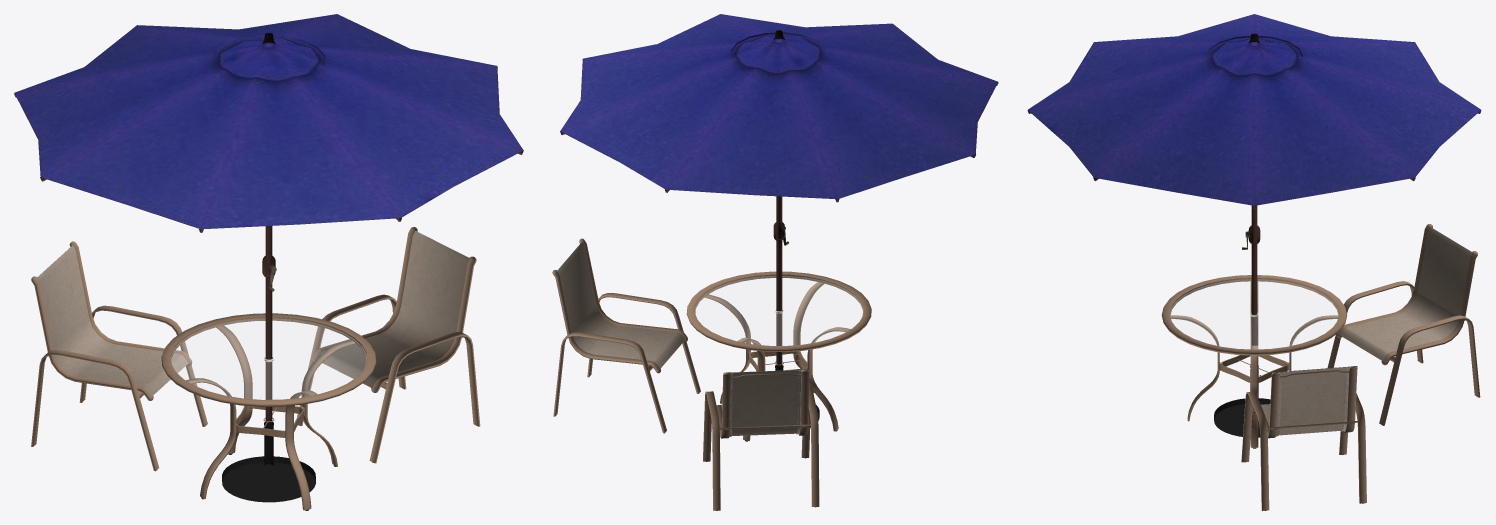
Rendered from patio_set_optimised.glb.
The picture shows the model from 3 angles, left to right: view 1: azimuth 30°, elevation 25°; view 2: azimuth 150°, elevation 25°; view 3: azimuth 270°, elevation 25°; orthographic projection. The views are drawn at different scales.
Visible parts, largest first — view 1: prop; view 2: prop; view 3: prop.
Part boxes in pixels (box(x1,y1,x2,y2)): prop: box(14, 14, 523, 510); prop: box(552, 14, 998, 510); prop: box(1027, 14, 1481, 510).
Bounding box in the file's own units: 2.74 × 2.56 × 2.74.
Materials: 4 (3 with a texture image).
